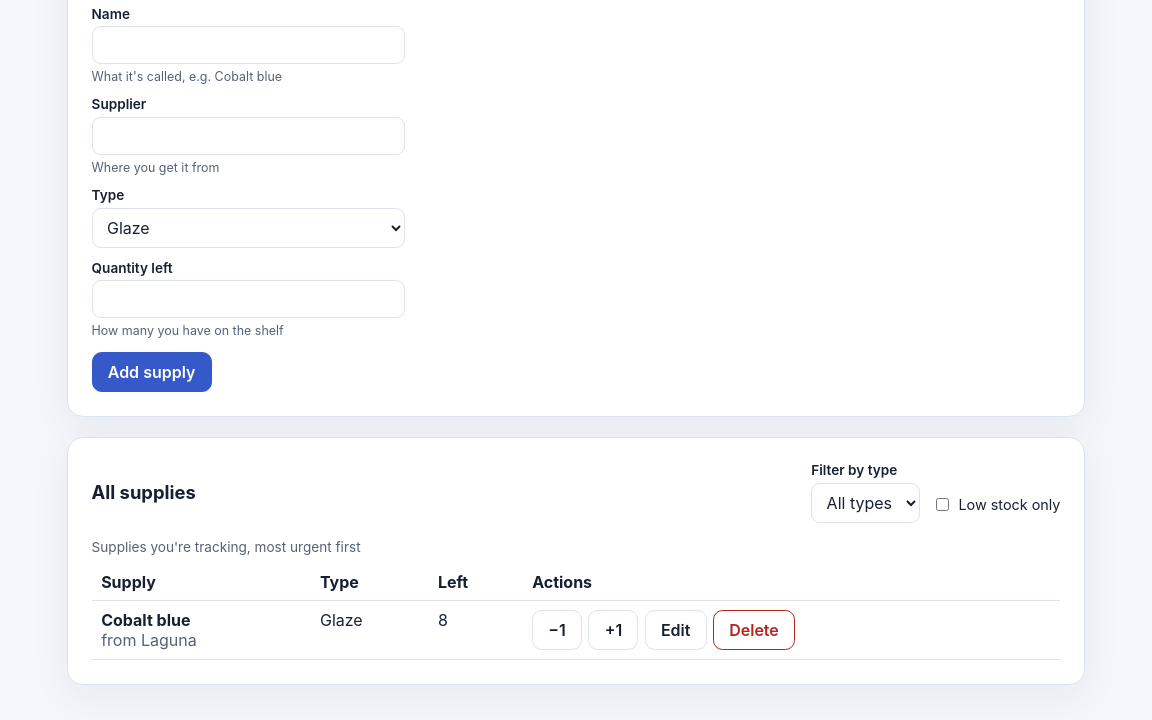
Test: supply register › edits a supply and keeps the change
(page scrolled)
Step 1. Click the button with aria-label "Edit Cobalt blue" → (676, 630), box [645,610,707,650]
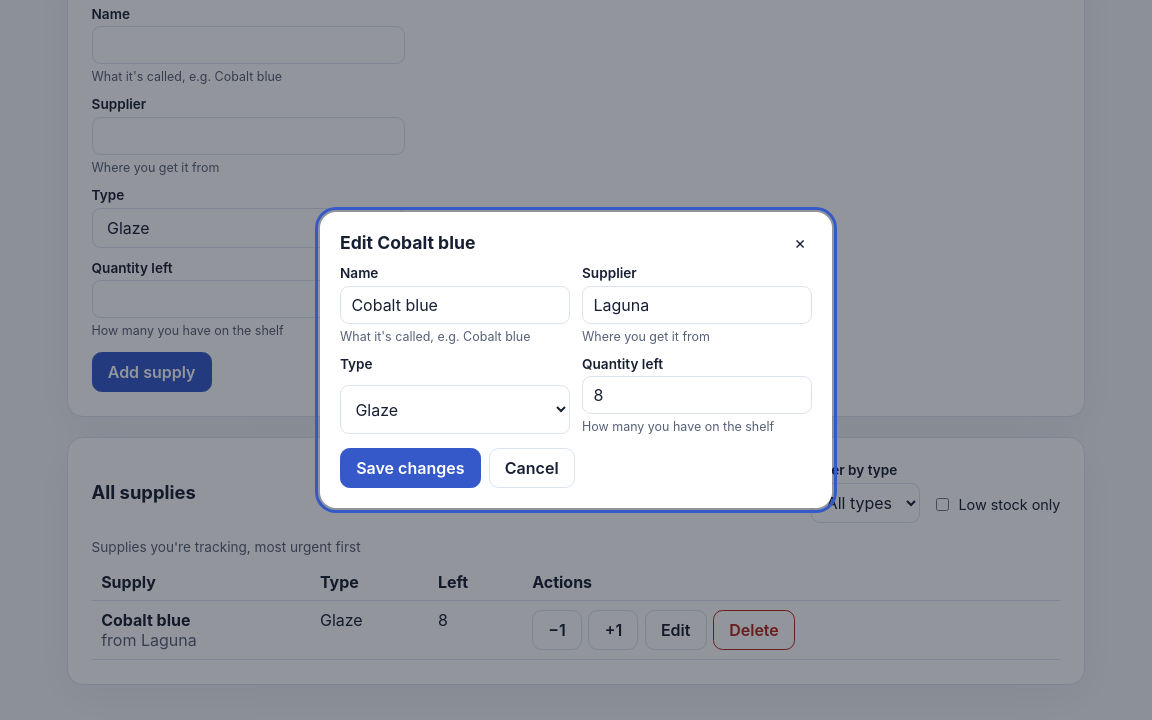
Step 2. Replace the text in the field labelled "Quantity left" with "3" → (697, 395), box [582,376,812,414]
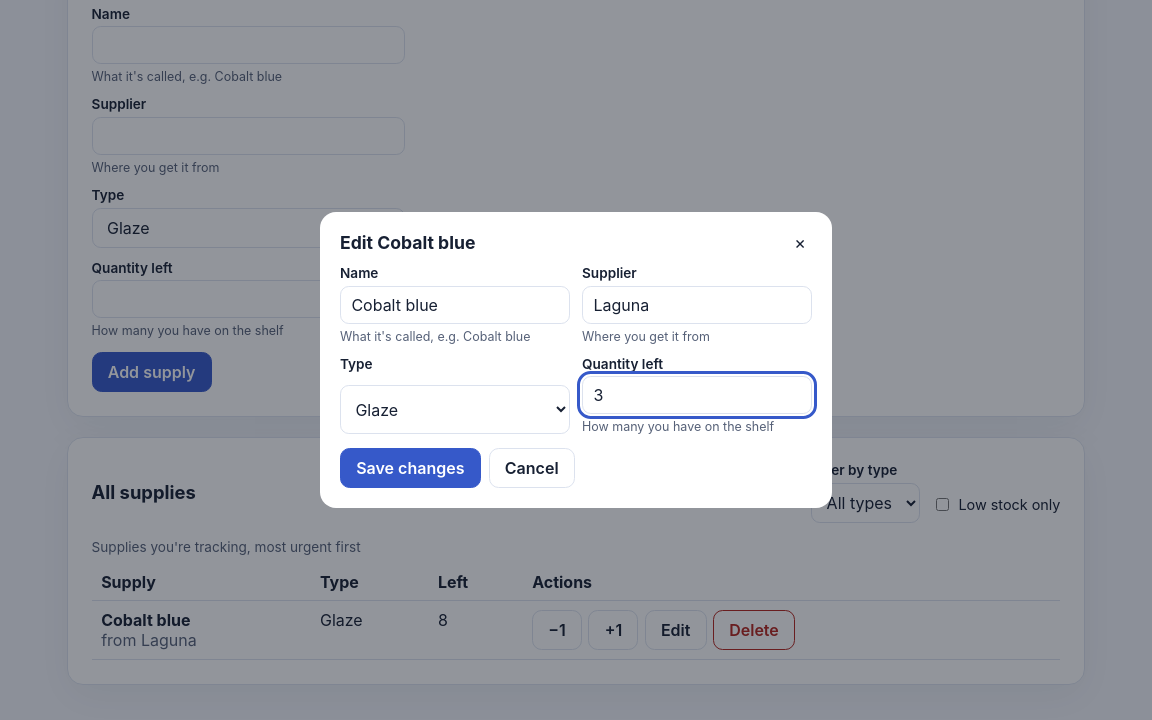
Step 3. Replace the text in the field labelled "Supplier" with "Amaco" → (697, 305), box [582,286,812,324]
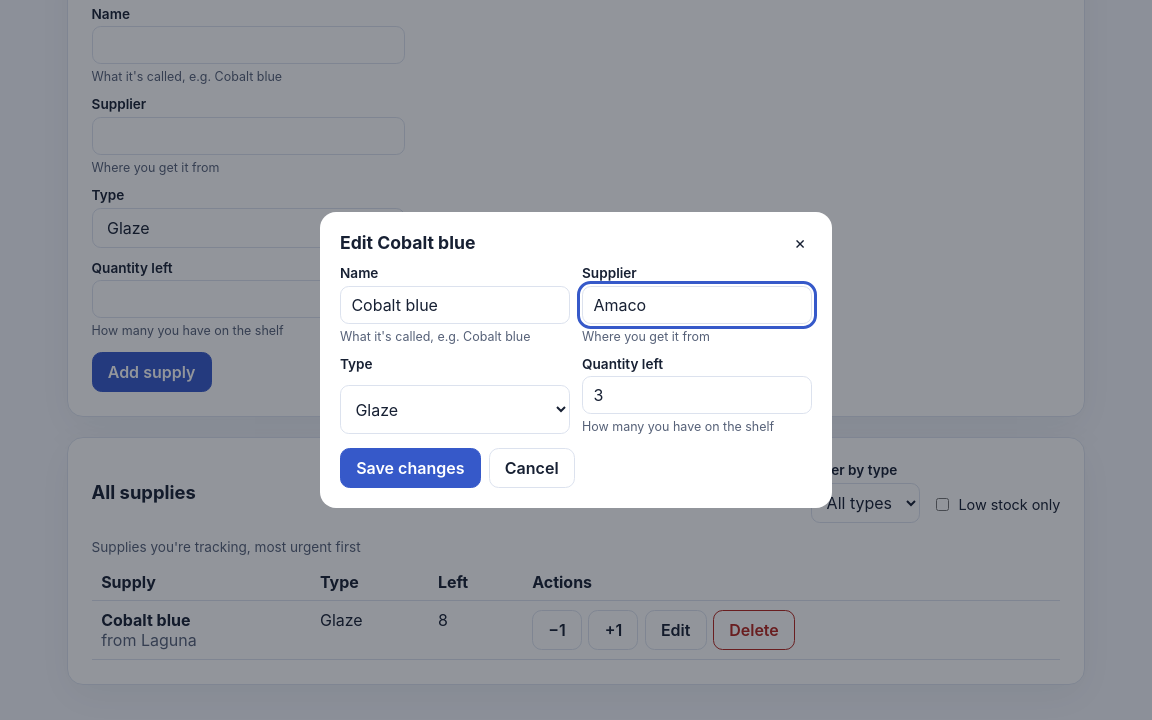
Step 4. Click the button "Save changes" → (410, 468), box [340,448,481,488]
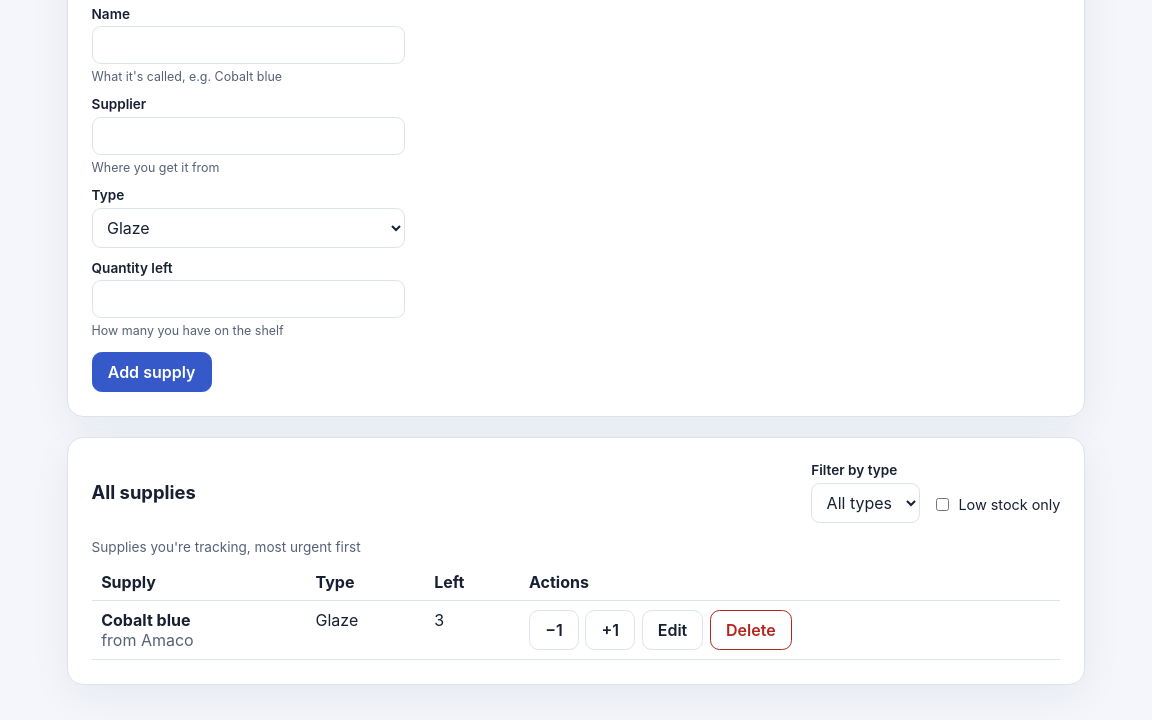
Check: the text "3" is shown, box [434,610,444,630]
Check: the text "from Amaco" is shown, box [101,630,194,650]
Check: the dialog is gone
